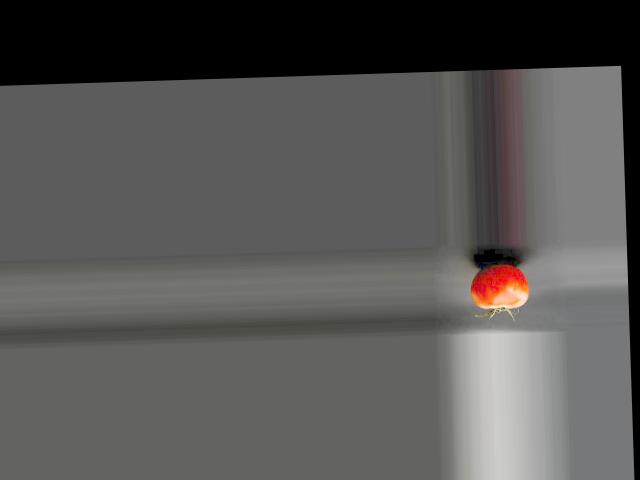tomato: (470, 263, 530, 309)
